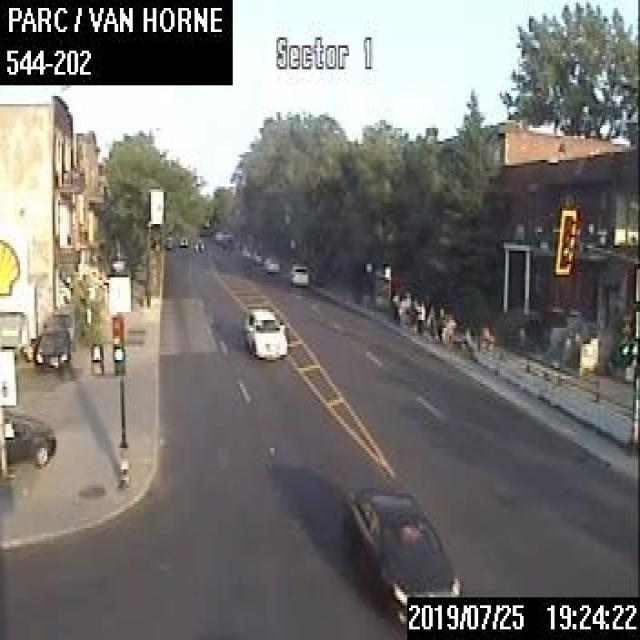pedestrian: (411, 292, 425, 338), (443, 308, 455, 347), (400, 288, 410, 325), (434, 303, 443, 342), (425, 302, 434, 339), (390, 287, 399, 318)
vehicle: (340, 480, 465, 637), (2, 407, 55, 465), (0, 279, 36, 357), (243, 302, 289, 359), (44, 301, 80, 347), (34, 327, 70, 367), (287, 259, 309, 285), (262, 253, 278, 272), (252, 252, 261, 264), (194, 239, 203, 250), (178, 236, 187, 246)
